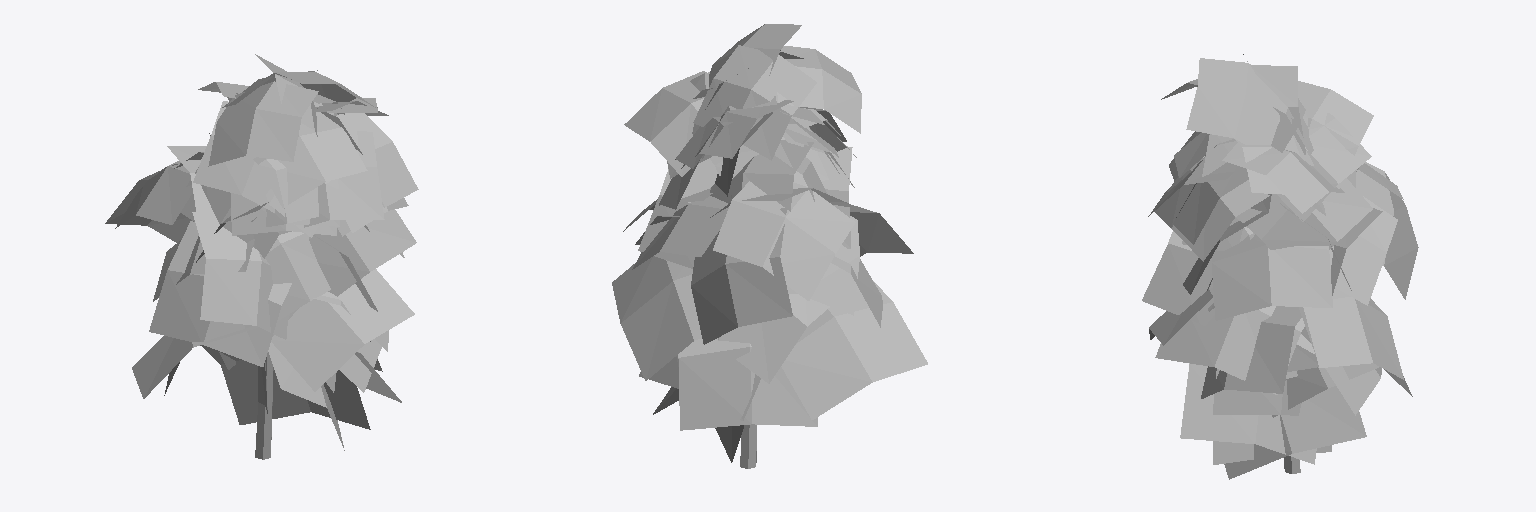
File: birchD.obj
3 views of the same model, side by side, from view 1: azimuth 30°, elevation 25°; view 2: azimuth 150°, elevation 25°; view 3: azimuth 270°, elevation 25° (orthographic).
Visible parts, largest first — view 1: Default; view 2: Default; view 3: Default.
Boxes of the visible parts, x1=… form: Default: x1=105, y1=54, x2=418, y2=459; Default: x1=612, y1=24, x2=927, y2=468; Default: x1=1142, y1=54, x2=1418, y2=479.
Size of the model in its own units: 10.19 by 14.83 by 8.95.